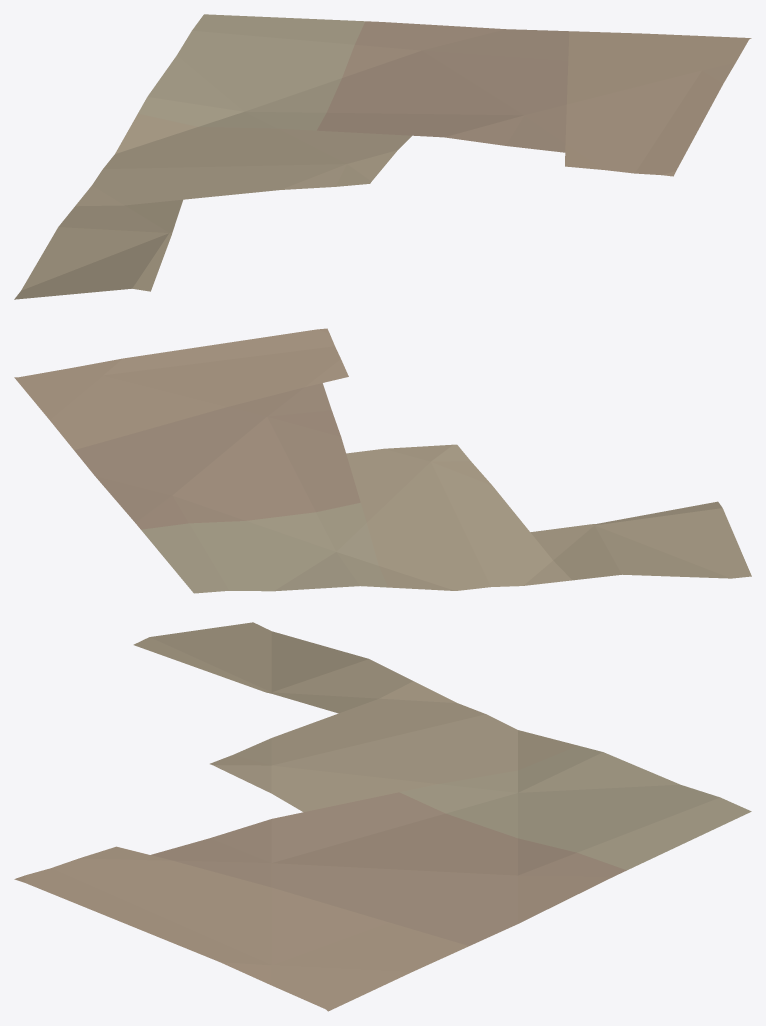
The model's file is farm_-33_-32_soil.glb.
3 renders of one model, top to bottom at view 1: azimuth 30°, elevation 25°; view 2: azimuth 150°, elevation 25°; view 3: azimuth 270°, elevation 25°, orthographic. The views are drawn at different scales.
Visible parts, largest first — view 1: geometry_0; view 2: geometry_0; view 3: geometry_0.
Boxes of the visible parts, bbox=[...] form: geometry_0: bbox=[14, 14, 751, 299]; geometry_0: bbox=[14, 328, 751, 593]; geometry_0: bbox=[14, 622, 751, 1011].
Bounding box in the file's own units: 347 × 25.88 × 240.
